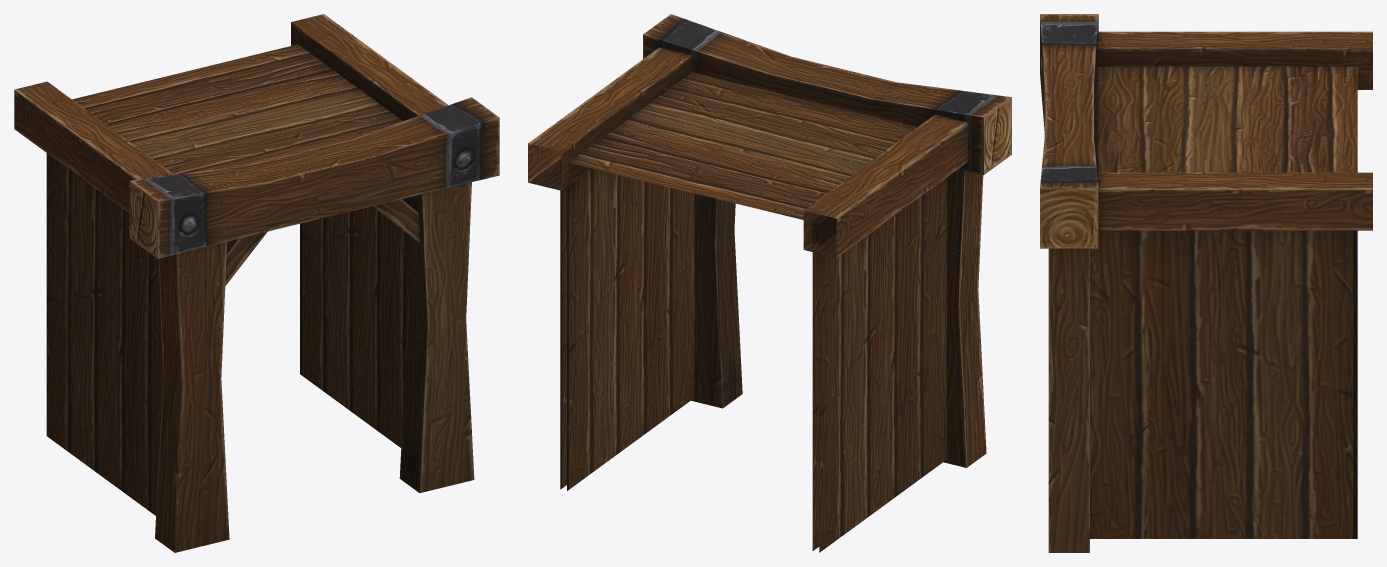
The model's file is Wagon_gate1.fbx.
3 views of the same model, side by side, from view 1: azimuth 30°, elevation 25°; view 2: azimuth 150°, elevation 25°; view 3: azimuth 270°, elevation 25° (orthographic). The views are drawn at different scales.
Parts seen in each view (by area): view 1: polySurface636; view 2: polySurface636; view 3: polySurface636.
Part boxes in pixels (left/top/right/bottom): polySurface636: left=14, top=14, right=499, bottom=552; polySurface636: left=528, top=14, right=1011, bottom=552; polySurface636: left=1040, top=14, right=1372, bottom=552.
Bounding box in the file's own units: 2.28 × 2.3 × 1.84.
1 material, 1 textured.
